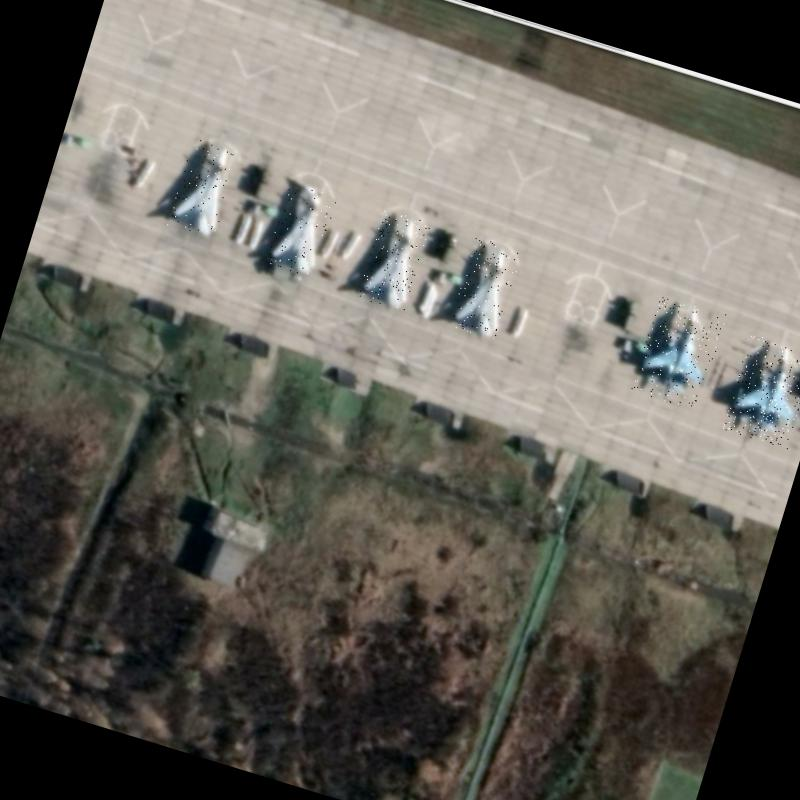A19: (631, 294, 727, 412), (721, 333, 800, 449)
A20: (448, 237, 523, 342), (167, 136, 241, 240), (357, 209, 431, 312), (265, 182, 338, 278)
